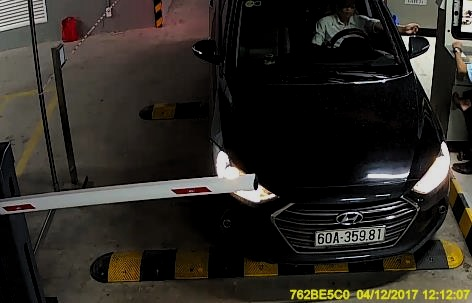plate: (314, 227, 384, 245)
